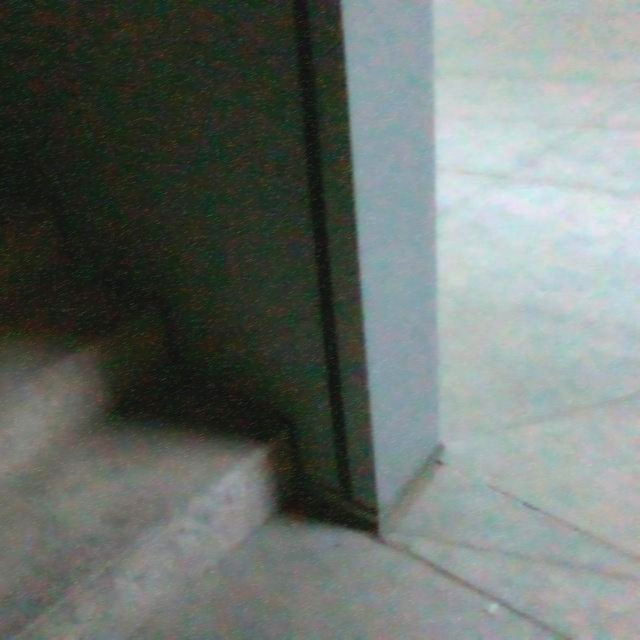stair: (6, 105, 302, 624)
